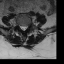CCS_normal: (22, 23, 24, 32)
LFS_normal: (27, 22, 29, 29)
LLS_normal: (24, 23, 27, 31)
RFS_stenosis: (18, 22, 20, 30)
RLS_normal: (20, 23, 22, 31)
